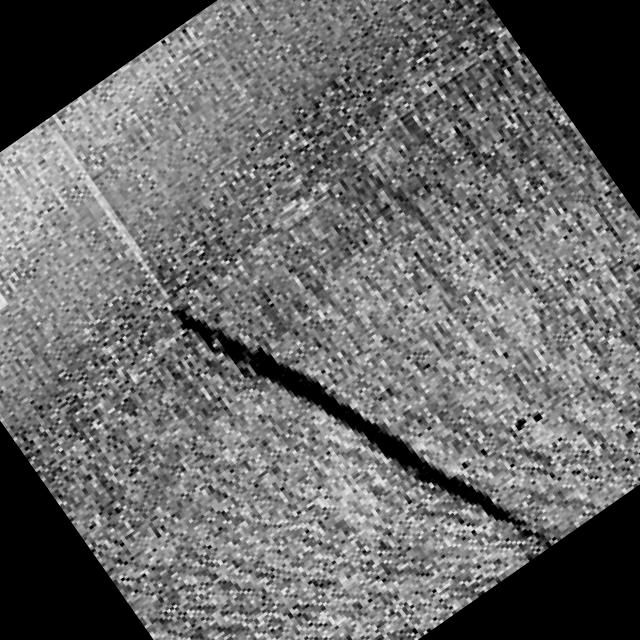defect: (166, 301, 561, 557)
